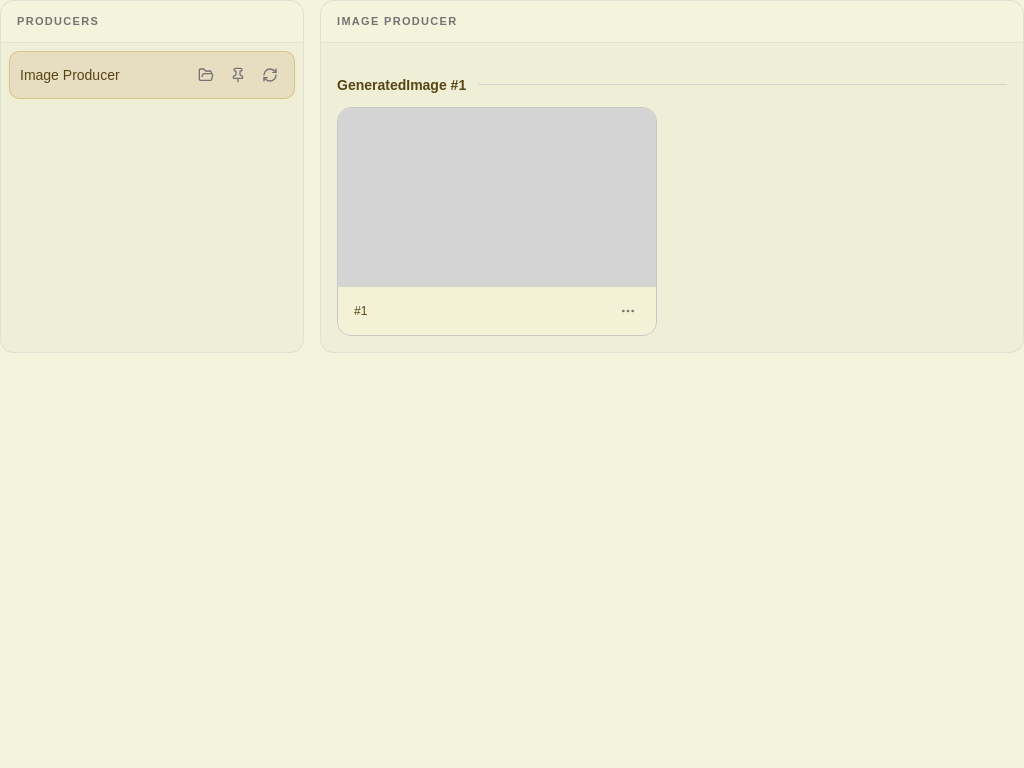
it: OutputsPanel › shows card actions for object-array image artifacts
Press the mouse on the button named "Card actions" at (628,311), box [616,299,640,323]
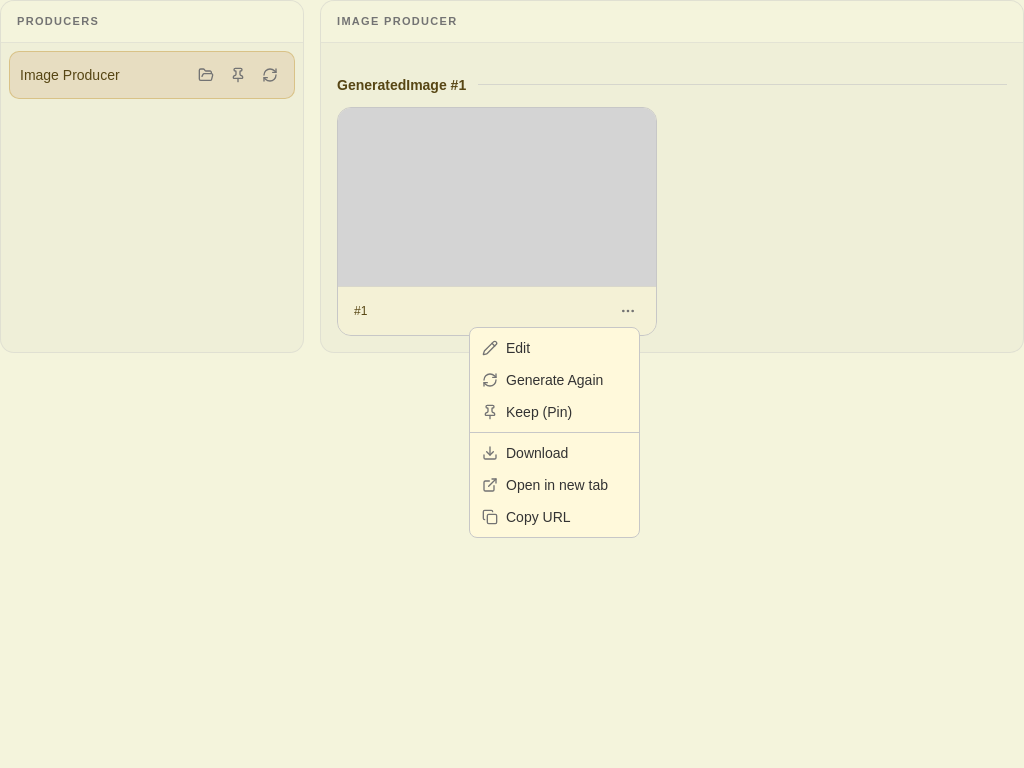
Expected: the menu item "Edit" is shown, [482,340,530,356]
